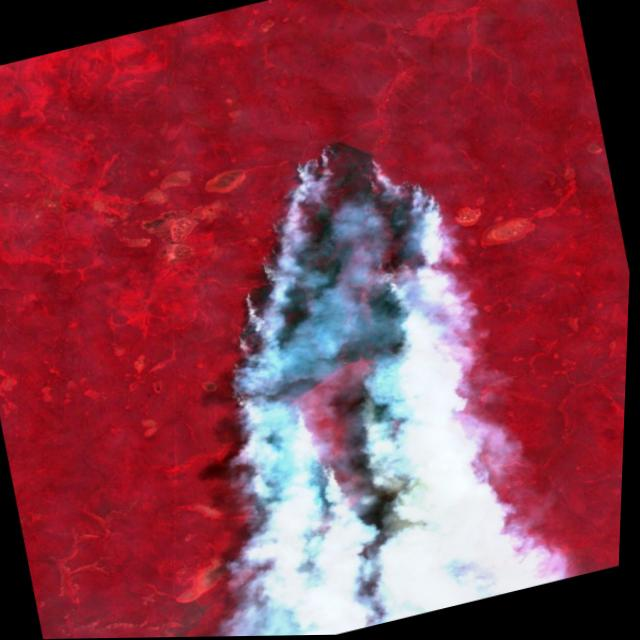fire: (168, 111, 530, 581)
